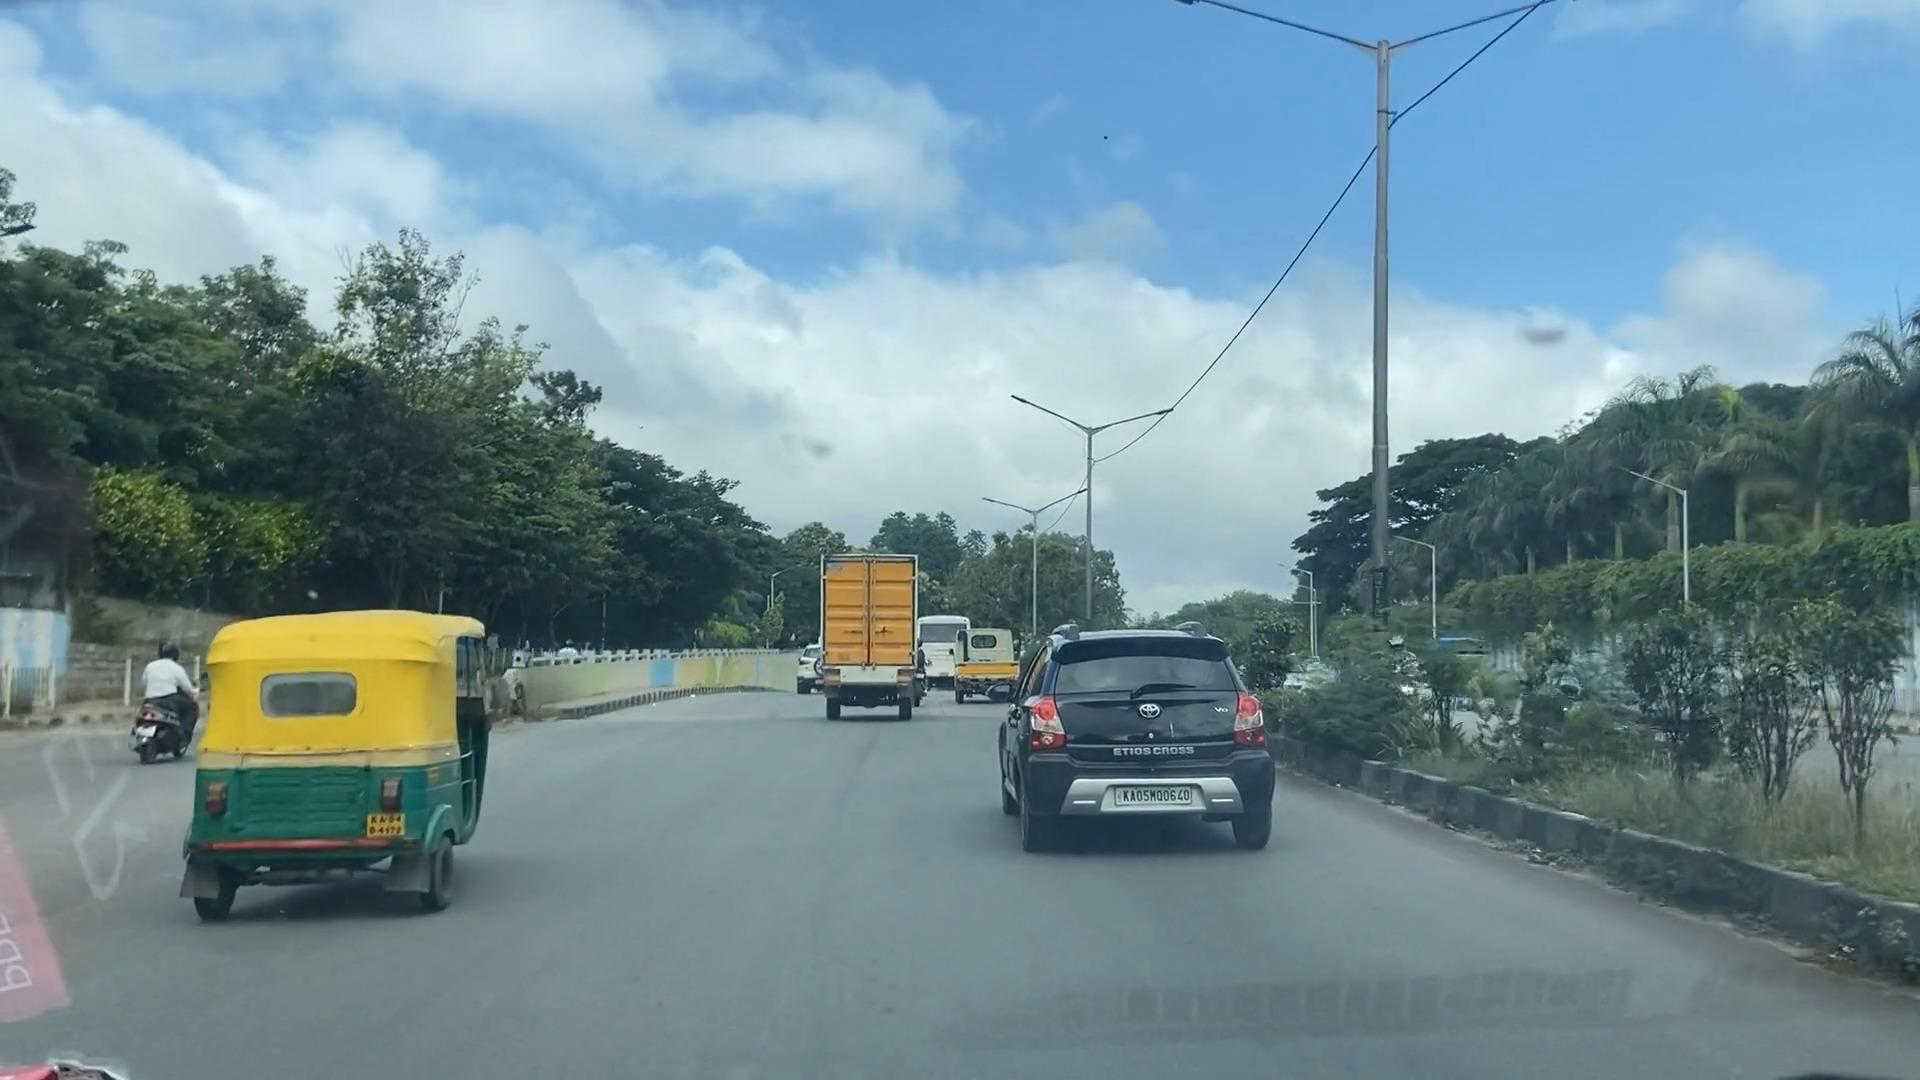HMV: (822, 568, 918, 716)
LMV: (190, 620, 491, 905), (996, 617, 1278, 864)
